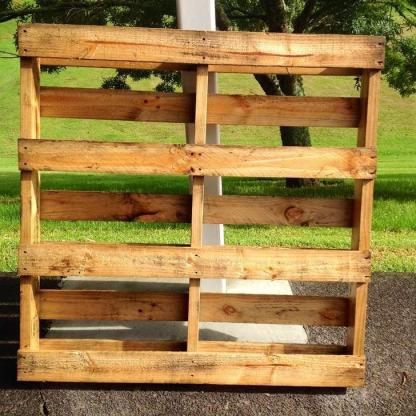BoxFace: (14, 22, 386, 389)
